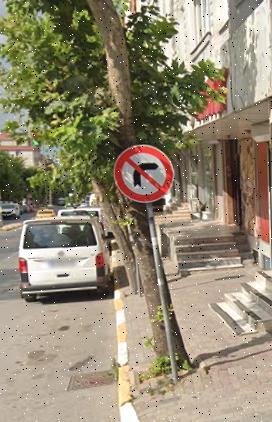rightturnsareforbidden: (116, 147, 172, 202)
